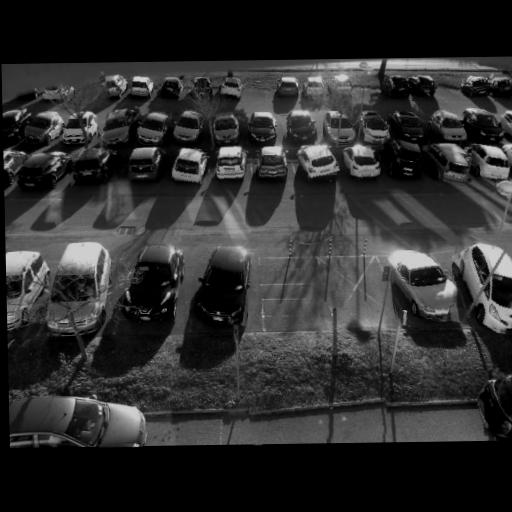busy: (9, 395, 143, 448), (112, 242, 185, 322), (389, 248, 464, 325), (450, 239, 512, 332), (189, 244, 254, 326), (42, 243, 111, 305), (379, 140, 470, 183), (476, 370, 512, 439), (7, 252, 43, 315), (422, 143, 476, 182), (11, 152, 65, 189), (66, 148, 116, 186), (297, 141, 343, 182), (16, 109, 64, 146), (130, 107, 174, 147), (93, 110, 138, 149), (425, 109, 471, 147), (468, 144, 512, 183), (165, 145, 209, 183), (340, 143, 385, 180), (382, 143, 428, 179), (121, 147, 167, 183), (353, 122, 392, 163), (166, 107, 208, 145), (429, 120, 471, 158), (355, 110, 395, 146), (387, 112, 430, 145), (282, 111, 322, 146), (463, 111, 503, 144), (207, 111, 244, 146), (319, 113, 357, 147), (211, 146, 248, 180), (244, 112, 280, 146), (58, 115, 95, 147), (253, 146, 288, 179), (459, 74, 498, 101), (380, 76, 416, 101), (3, 112, 26, 142), (157, 77, 185, 100), (127, 76, 154, 99), (100, 74, 128, 96), (218, 77, 244, 100), (408, 75, 436, 96), (3, 150, 21, 182), (273, 79, 302, 98), (490, 75, 512, 99), (191, 77, 215, 99), (494, 178, 512, 199), (500, 113, 512, 142)
free: (248, 392, 388, 444), (62, 72, 110, 107), (242, 83, 272, 104), (352, 78, 380, 100), (436, 78, 461, 97)
